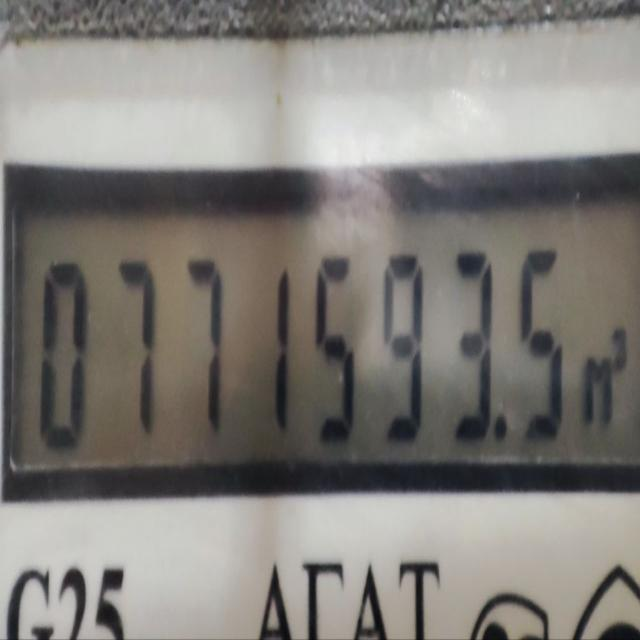.: (495, 412, 508, 442)
0: (37, 262, 90, 455)
1: (274, 260, 294, 434)
3: (452, 250, 493, 453)
5: (518, 242, 564, 447), (310, 248, 356, 450)
7: (114, 258, 158, 437), (186, 250, 223, 442)
9: (382, 246, 424, 453)
screen: (10, 177, 638, 476)
